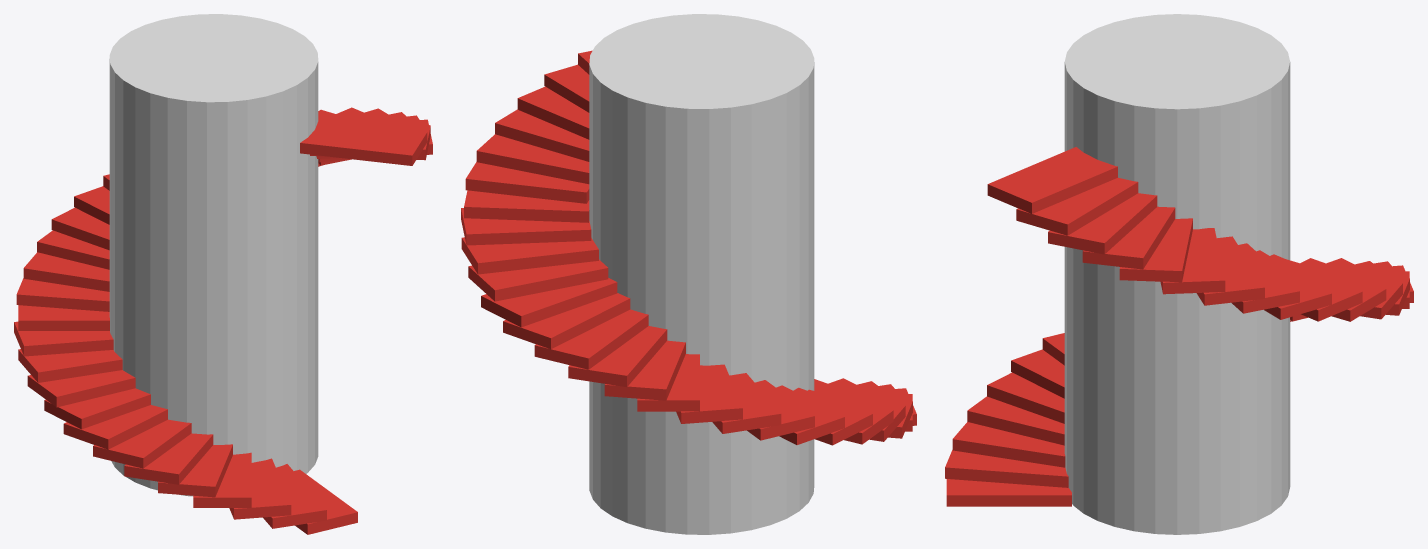
Rendered from stairs2.fbx.
3 views of the same model, side by side, from view 1: azimuth 30°, elevation 25°; view 2: azimuth 150°, elevation 25°; view 3: azimuth 270°, elevation 25° (orthographic). The views are drawn at different scales.
Parts seen in each view (by area): view 1: Cylinder, Cube.031, Cube.010, Cube.006, Cube.009, Cube.008, Cube.007, Cube.005, Cube.013, Cube.011, Cube.014, Cube.002 (+9 smaller); view 2: Cylinder, Cube.022, Cube.021, Cube.020, Cube.025, Cube.018, Cube.023, Cube.026, Cube.024, Cube.019, Cube.017, Cube.027 (+12 smaller); view 3: Cylinder, Cube.031, Cube.030, Cube.001, Cube, Cube.002, Cube.029, Cube.028, Cube.026, Cube.003, Cube.027, Cube.025 (+8 smaller).
Boxes of the visible parts, x1,y1,x2,y2 form: Cylinder: (109,14,318,496); Cube.031: (300,119,427,165); Cube.010: (18,349,122,382); Cube.006: (93,419,191,468); Cube.009: (27,370,135,407); Cube.008: (44,388,150,429); Cube.007: (63,405,167,449); Cube.005: (124,433,213,484); Cube.013: (16,278,109,311); Cube.011: (14,321,113,356); Cube.014: (23,252,109,291); Cube.002: (229,458,291,519); Cylinder: (589,14,814,534); Cube.022: (461,237,598,274); Cube.021: (468,259,608,301); Cube.020: (481,278,617,327); Cube.025: (465,162,589,203); Cube.018: (534,309,648,369); Cube.023: (461,208,591,245); Cube.026: (476,134,589,184); Cube.024: (464,190,589,222); Cube.019: (503,293,630,349); Cube.017: (568,326,667,386); Cube.027: (495,109,589,161); Cylinder: (1064,14,1290,534); Cube.031: (987,147,1117,213); Cube.030: (1016,177,1138,235); Cube.001: (945,450,1068,487); Cube: (946,479,1071,506); Cube.002: (952,422,1065,467); Cube.029: (1048,193,1157,254); Cube.028: (1082,206,1175,269); Cube.026: (1160,228,1225,294); Cube.003: (967,396,1064,445); Cube.027: (1119,218,1192,282); Cube.025: (1196,236,1264,305).
Size of what is drawn, in the model's own units: 1434 by 1500 by 1497.
